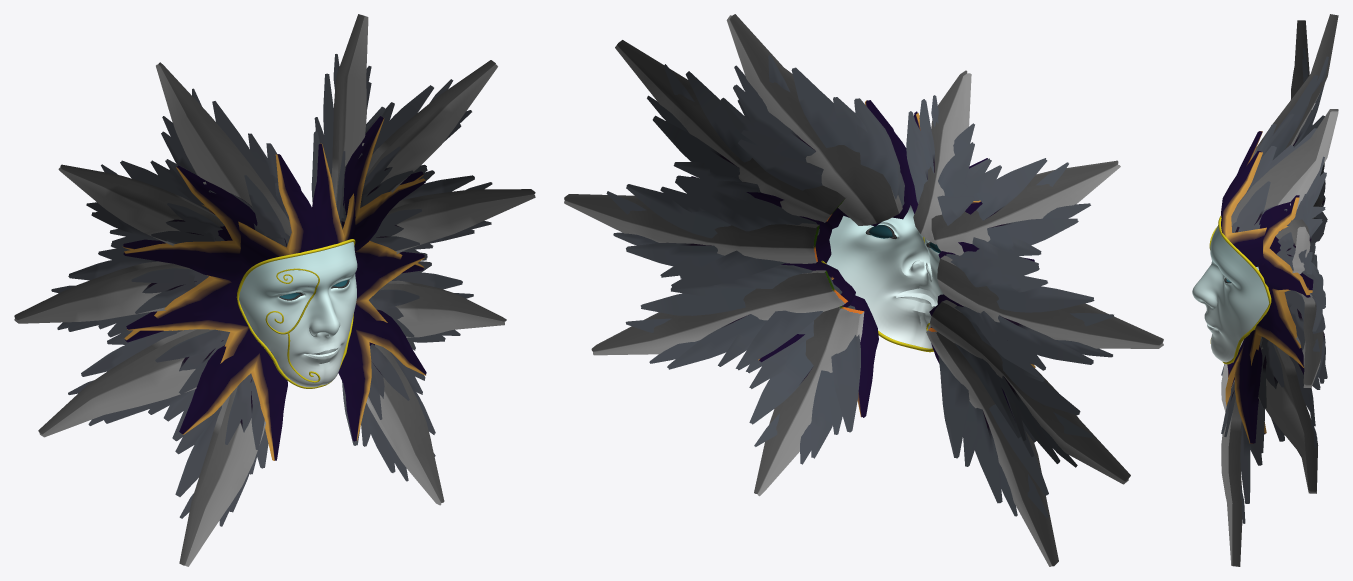
Rendered from Mask_PrinceCharming.glb.
3 views of the same model, side by side, from view 1: azimuth 30°, elevation 25°; view 2: azimuth 150°, elevation 25°; view 3: azimuth 270°, elevation 25° (orthographic). The views are drawn at different scales.
Parts seen in each view (by area): view 1: BézierCurve.001; view 2: BézierCurve.001; view 3: BézierCurve.001.
Part boxes in pixels (<box>): BézierCurve.001: <box>14,14,535,566</box>; BézierCurve.001: <box>564,14,1163,566</box>; BézierCurve.001: <box>1192,14,1338,566</box>.
Bounding box in the file's own units: 0.6544 × 0.5562 × 0.1653.
2 materials, 2 textured.
